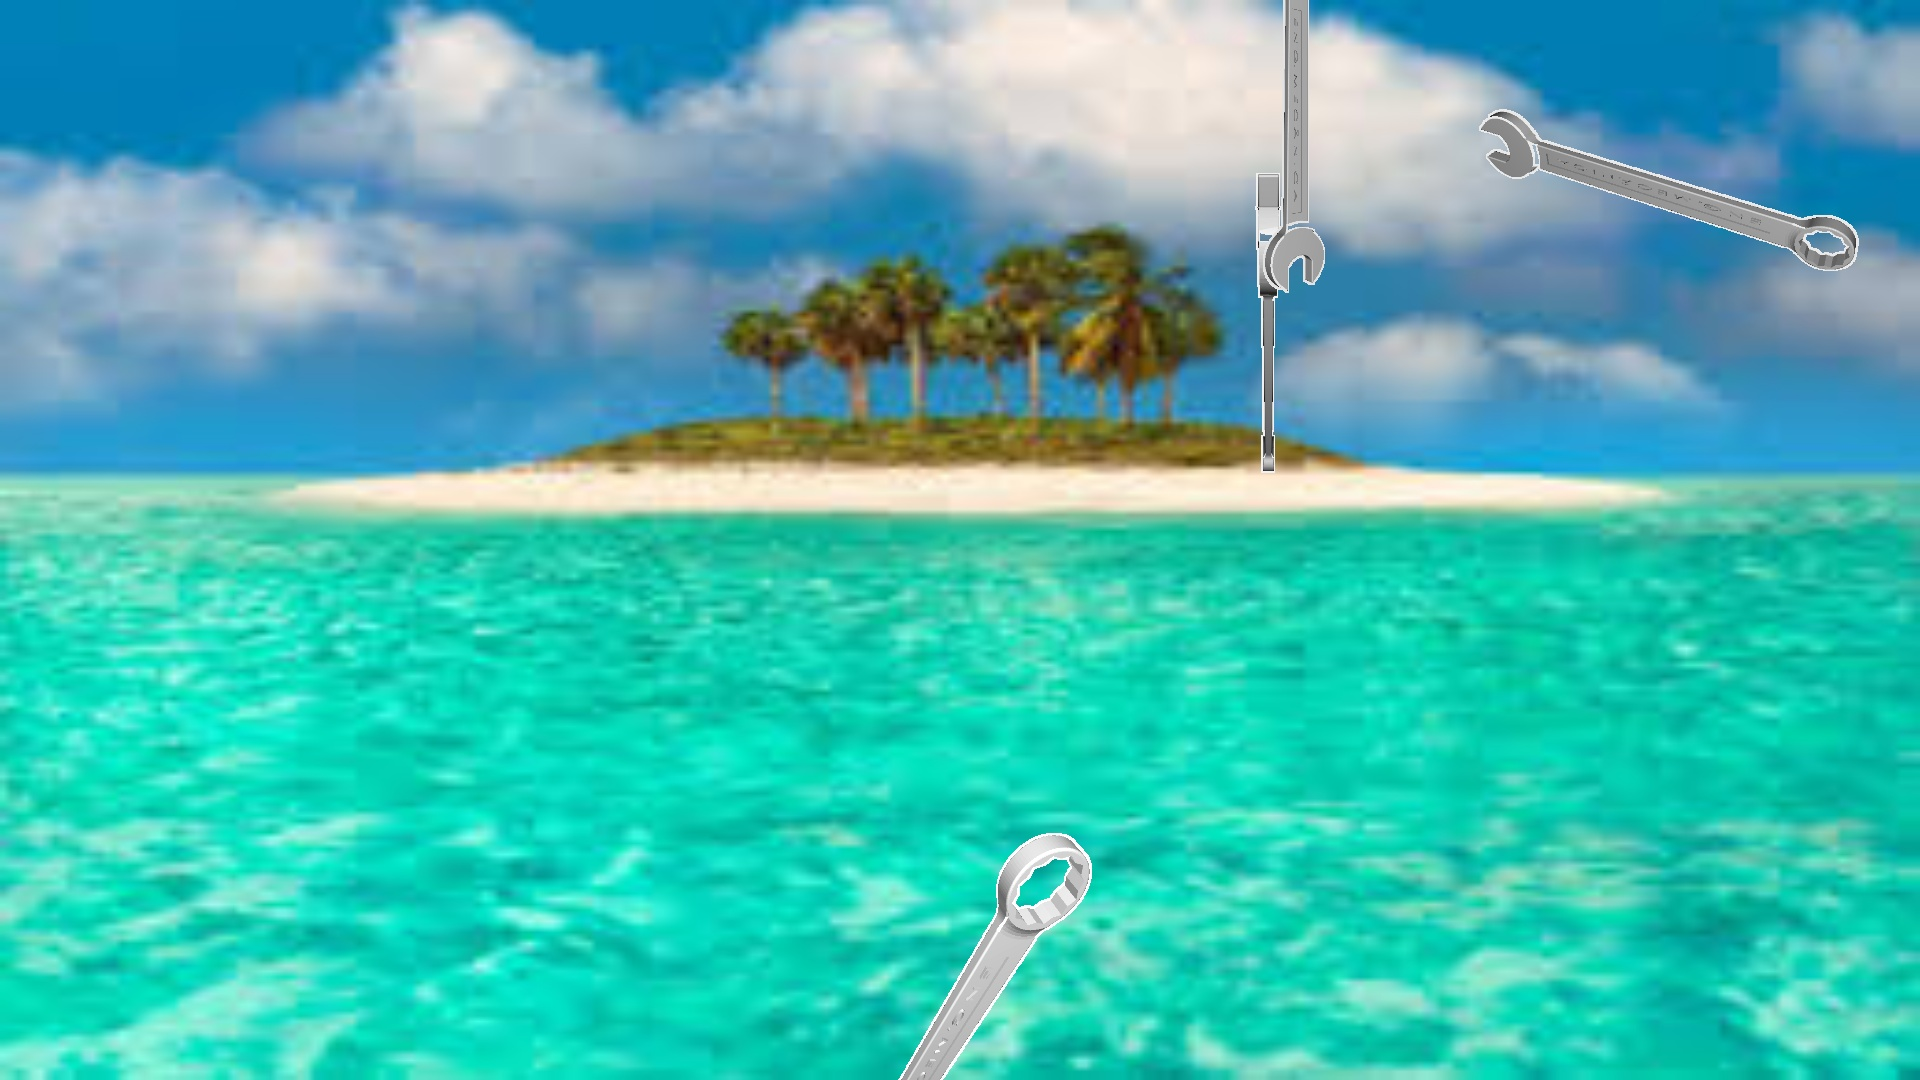Mixed Key: (1480, 109, 1858, 270), (898, 833, 1091, 1079), (1263, 0, 1324, 291), (1255, 173, 1280, 472)
